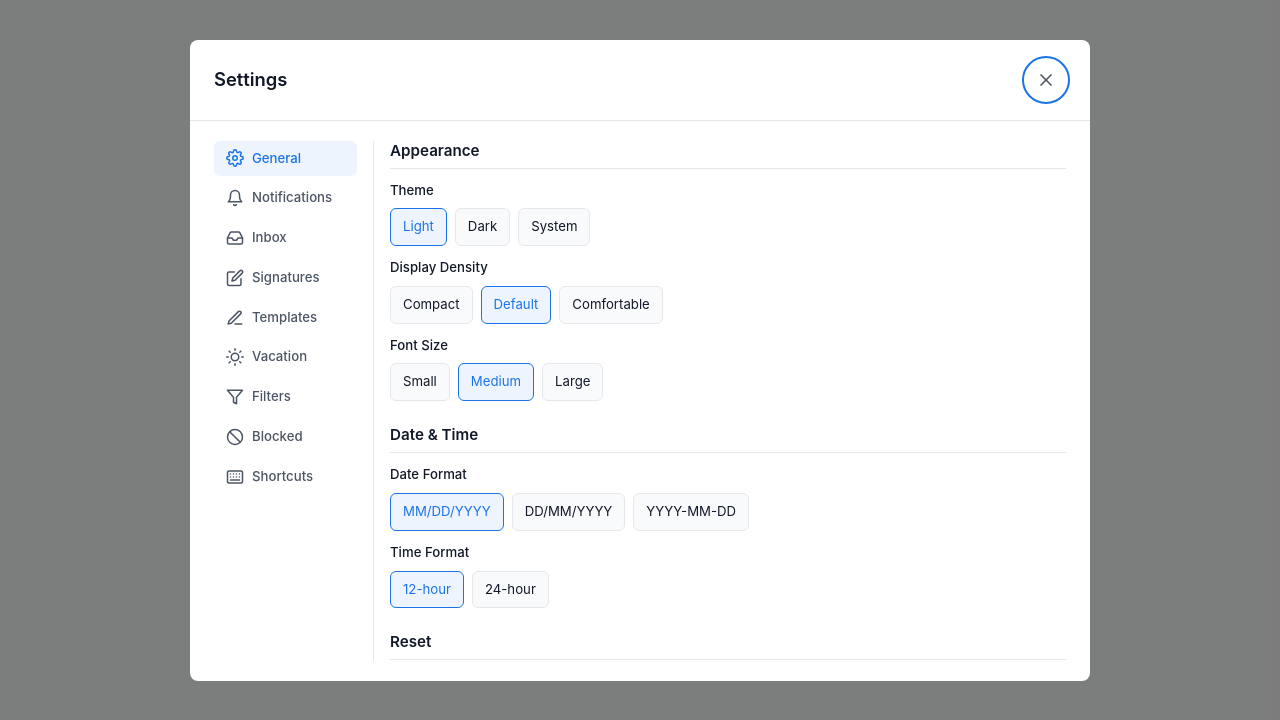
SettingsModal - filter list display › opens edit form when Edit button is clicked
Click the button "Filters". click: (286, 397)
box: [214,379,357,415]
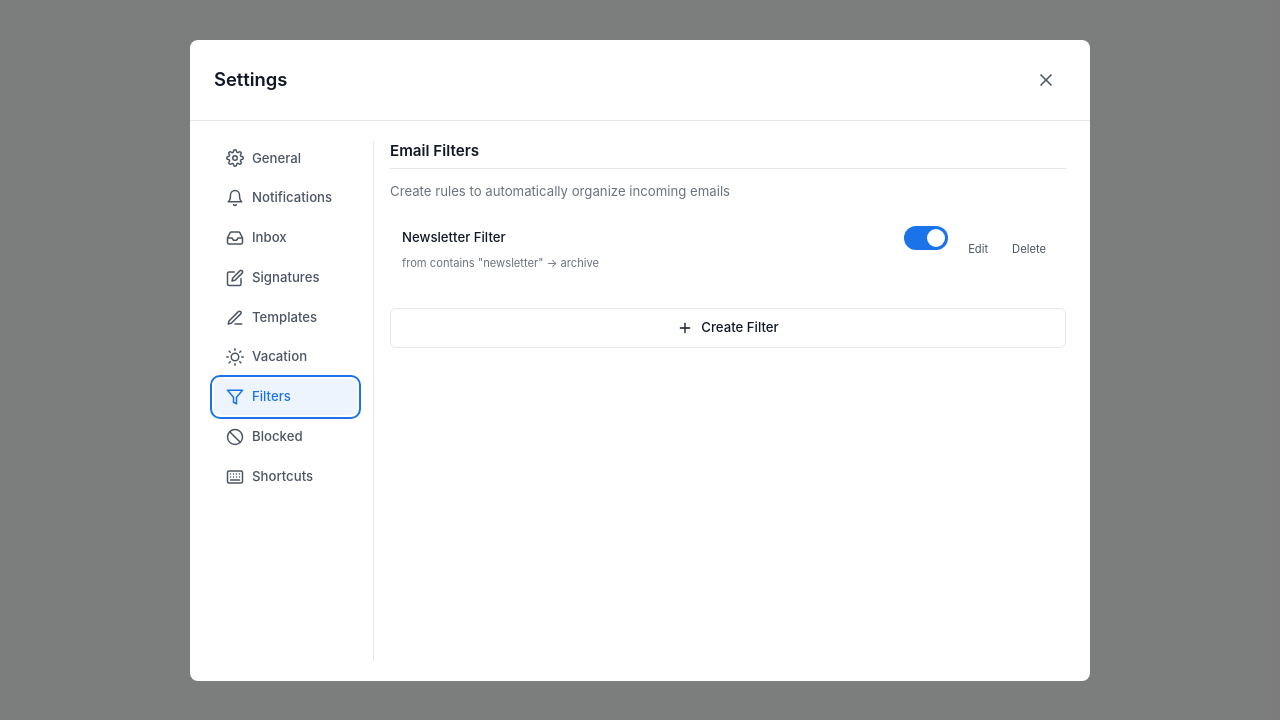
Expected: the heading "Email Filters" is shown, [390,140,1066,168]
Expected: the button "Edit" is shown
Click the button "Edit". click: (978, 249)
box: [960,237,996,262]
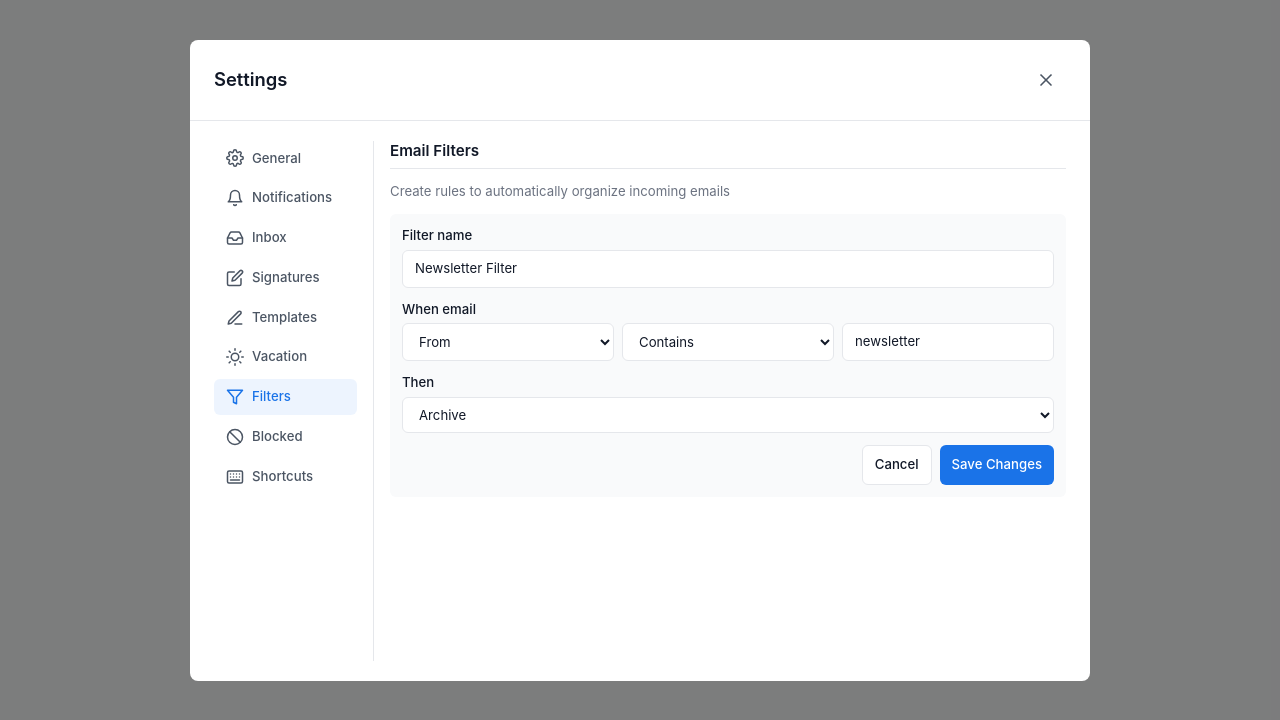
Expected: the button "Save Changes" is shown, [940,445,1054,485]
